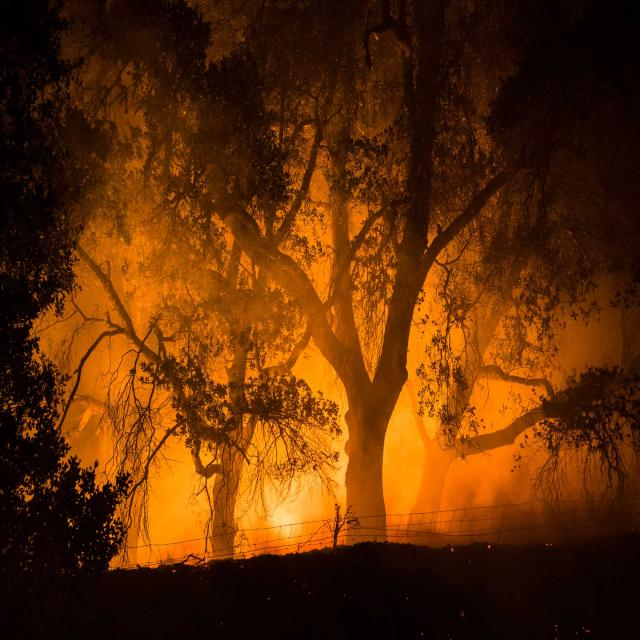Smoke: (38, 254, 349, 570), (382, 377, 453, 518)
